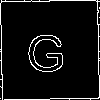G: (25, 25, 66, 73)
